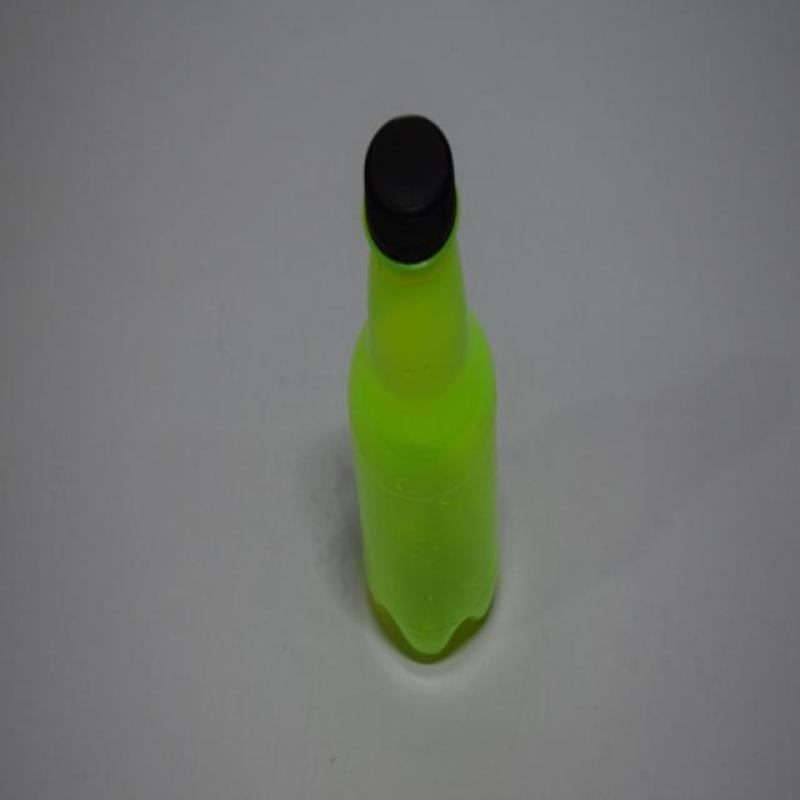botella: (343, 112, 502, 658)
